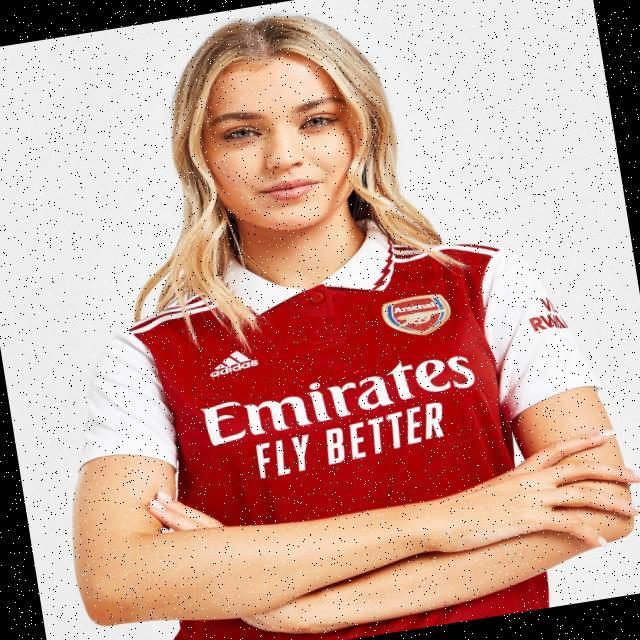Adidas: (208, 347, 263, 381)
Emirates: (199, 352, 480, 449)
